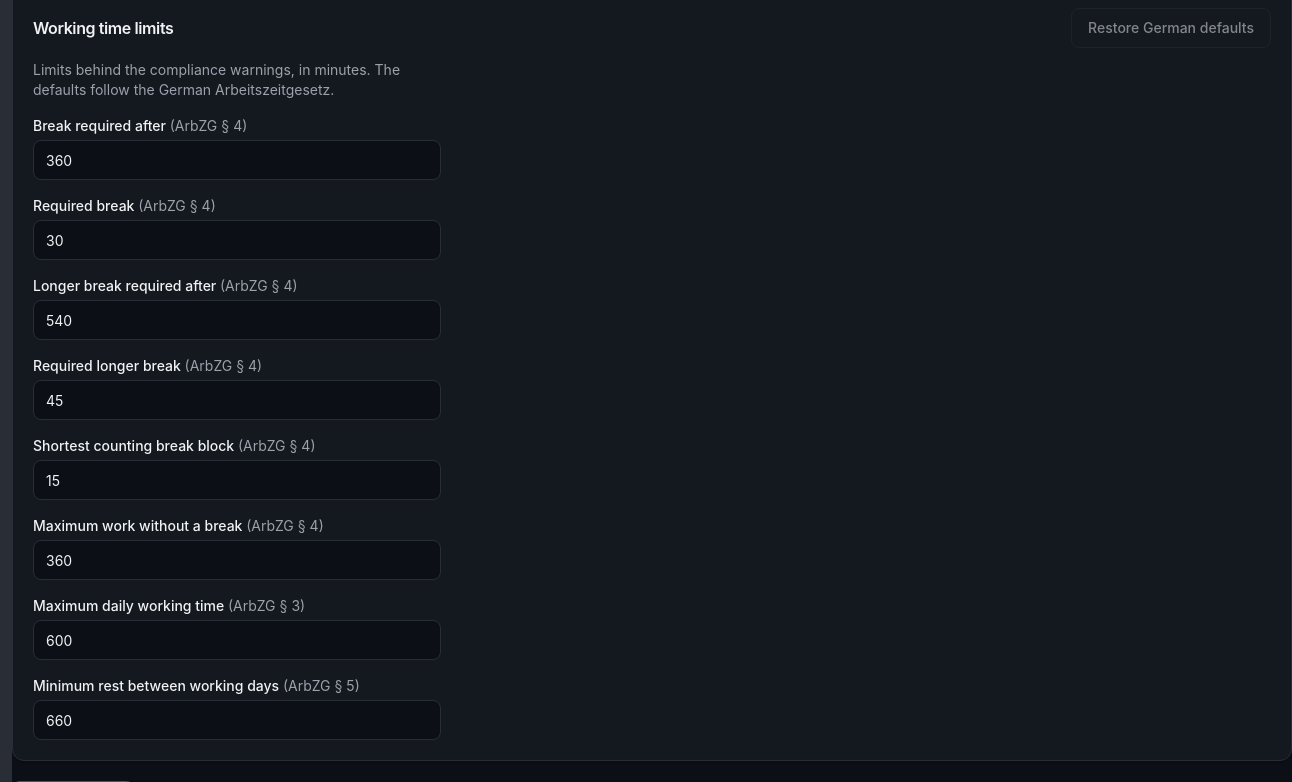
Test: SettingsPage › rejects a longer break that is shorter than the short break
(page scrolled)
Check: the heading "Working time limits" is shown, box top-left (33, 16), bottom-right (173, 40)
Replace the text in the number field labelled "Required longer break (ArbZG § 4)" with "15" at (237, 400), box top-left (33, 380), bottom-right (441, 420)
(page scrolled)
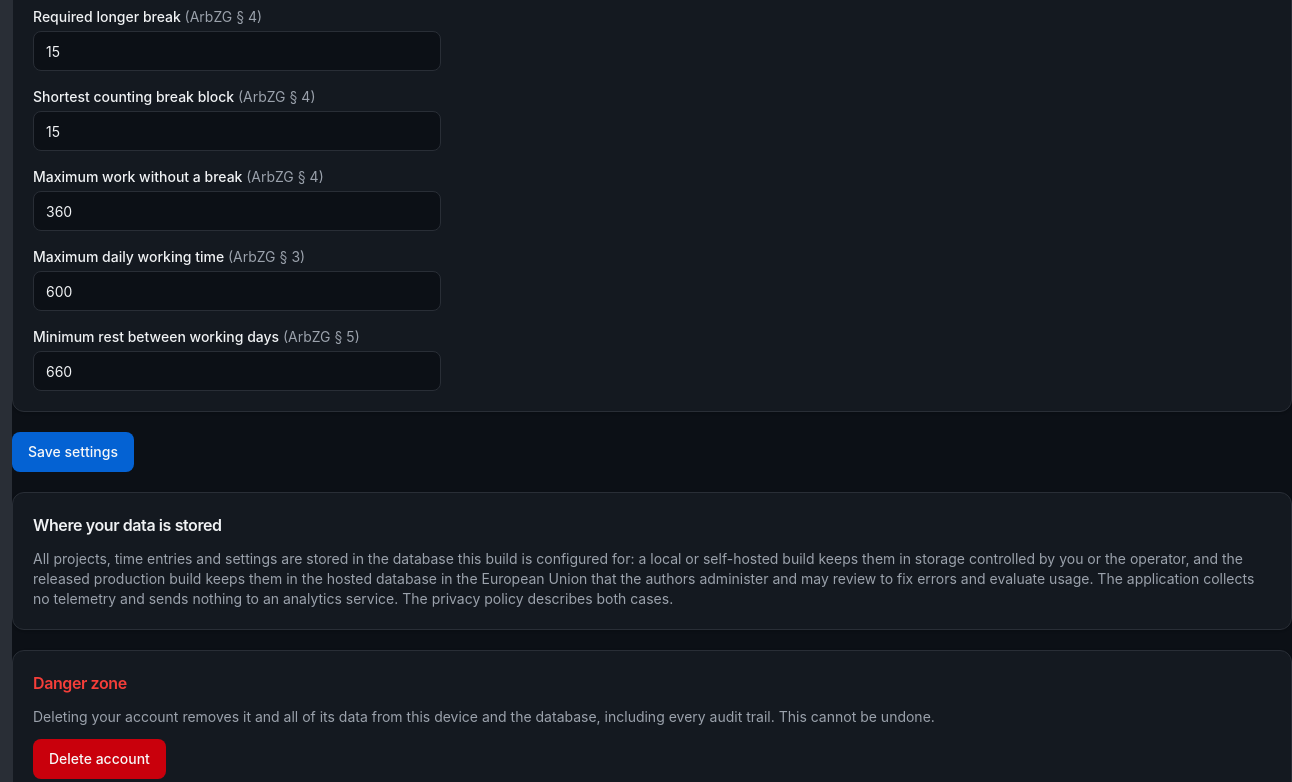
Click the button "Save settings" at (73, 452), box top-left (12, 432), bottom-right (134, 472)
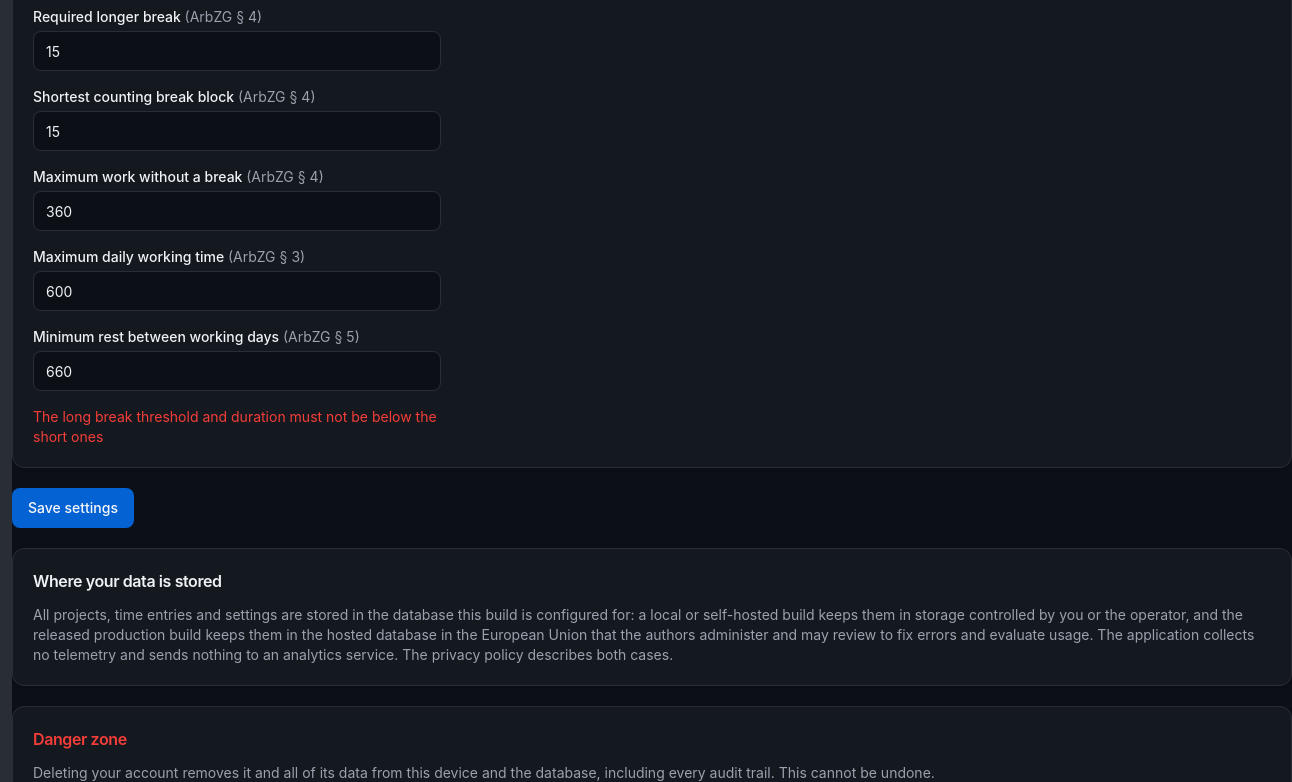
Check: the message reads "The long break threshold and duration must not be below the short ones", box top-left (33, 408), bottom-right (437, 445)
